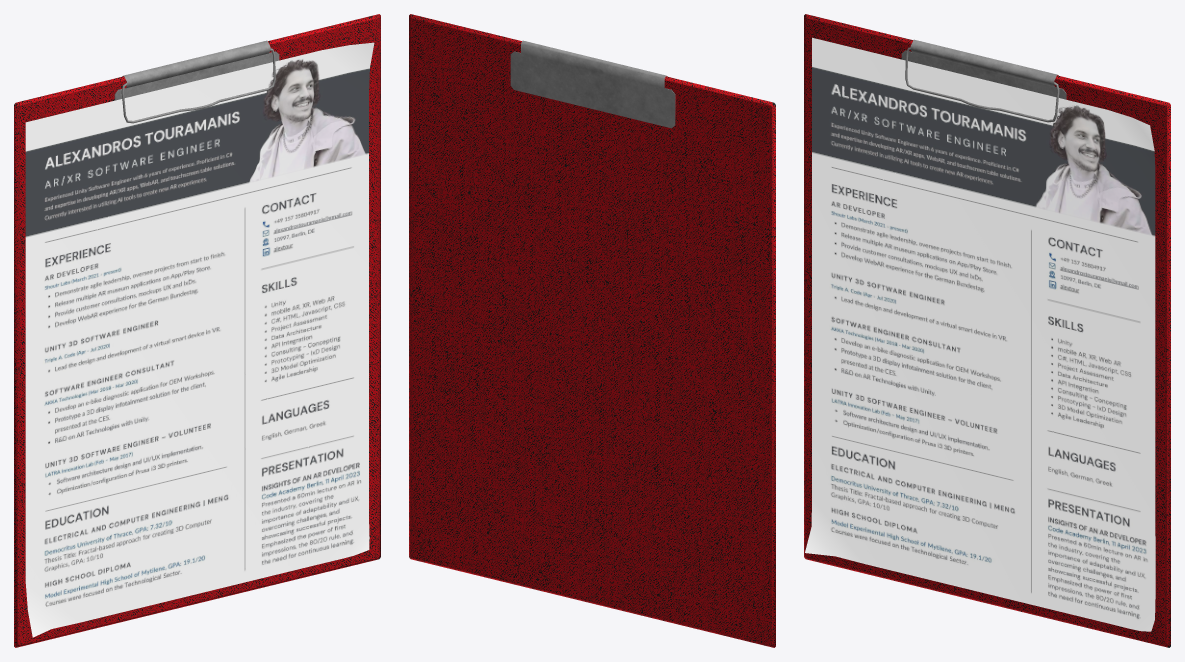
File: paper_tablet.glb
The picture shows the model from 3 angles, left to right: view 1: azimuth 30°, elevation 25°; view 2: azimuth 150°, elevation 25°; view 3: azimuth 330°, elevation 25°; orthographic projection.
Visible parts, largest first — view 1: Plane005, Plane; view 2: Plane; view 3: Plane005, Plane.
Boxes of the visible parts, x1,y1,x2,y2 form: Plane005: (25,42,374,637); Plane: (14,14,380,647); Plane: (409,14,775,647); Plane005: (805,37,1155,631); Plane: (804,14,1170,647).
Size of the model in its own units: 0.2735 by 0.3889 by 0.0137.
2 materials, 2 textured.
